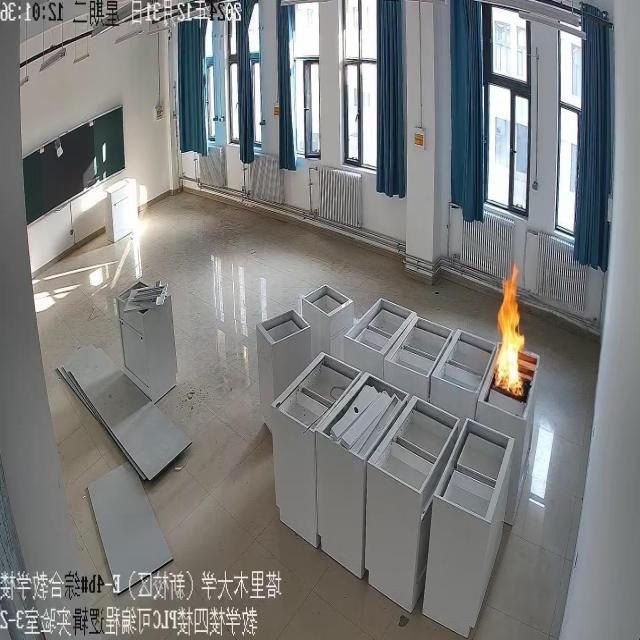smoke: (490, 258, 528, 396)
